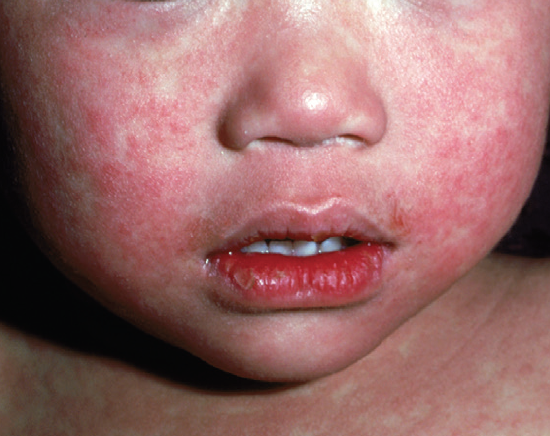Eksim: (27, 7, 225, 312), (370, 1, 550, 300)
